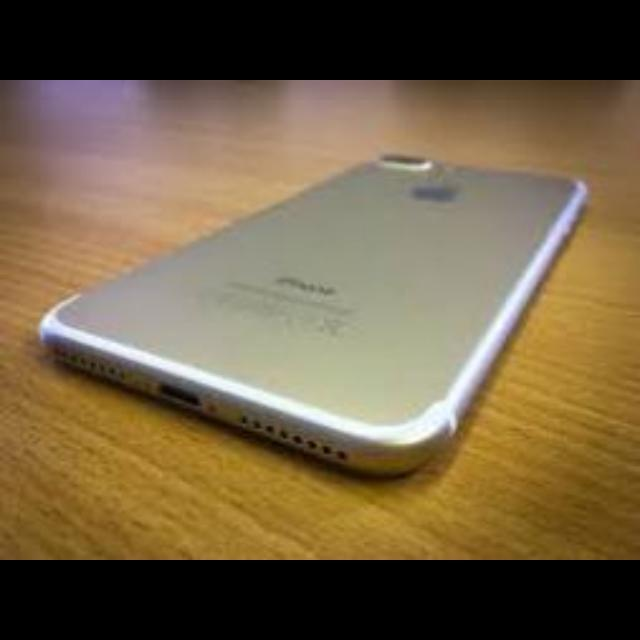Phone: (47, 140, 595, 520)
